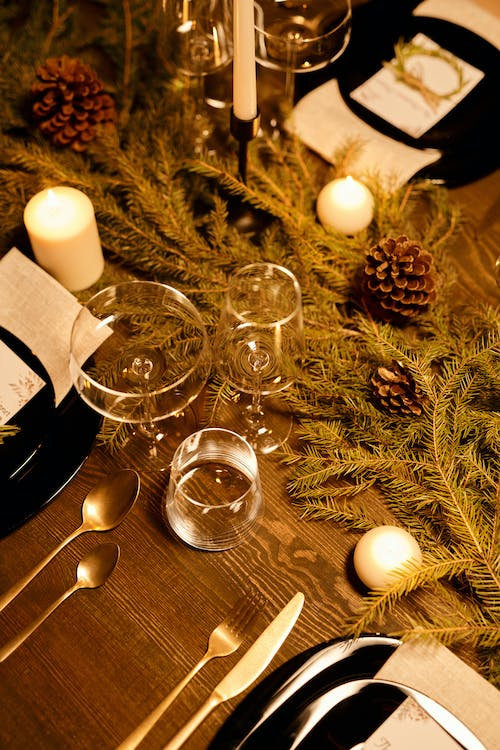knife: (158, 588, 307, 750)
